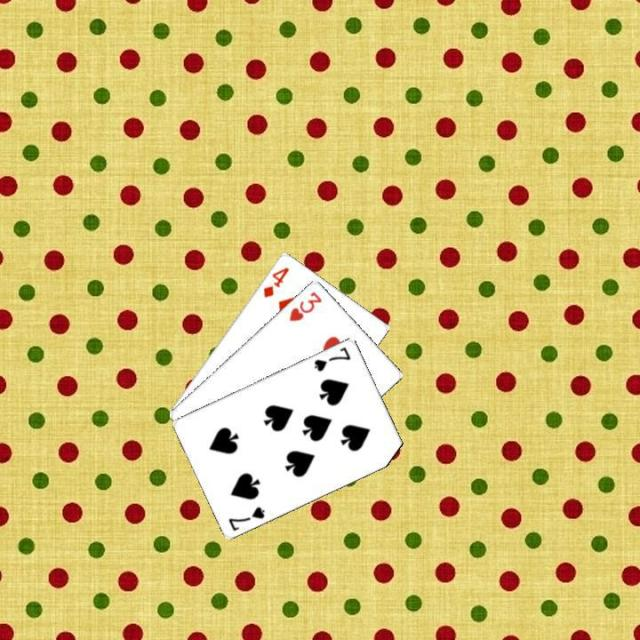3H: (286, 287, 324, 323)
4D: (258, 263, 290, 300)
7S: (310, 342, 352, 373), (224, 502, 267, 532)
